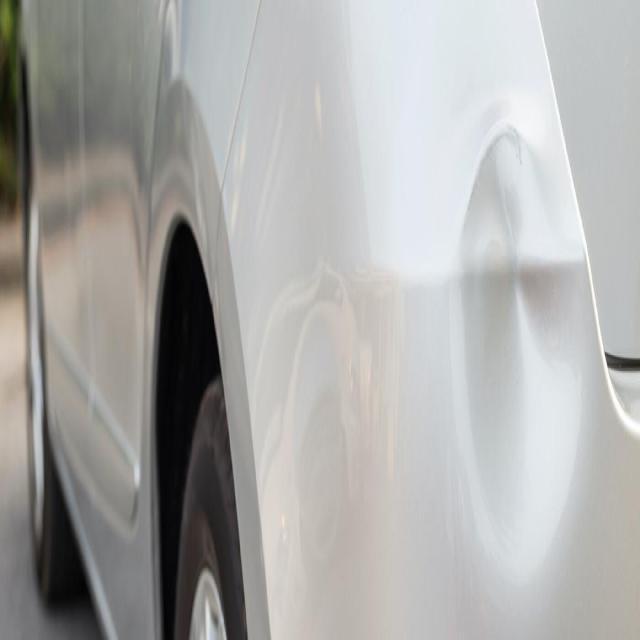dent: (444, 88, 602, 630)
